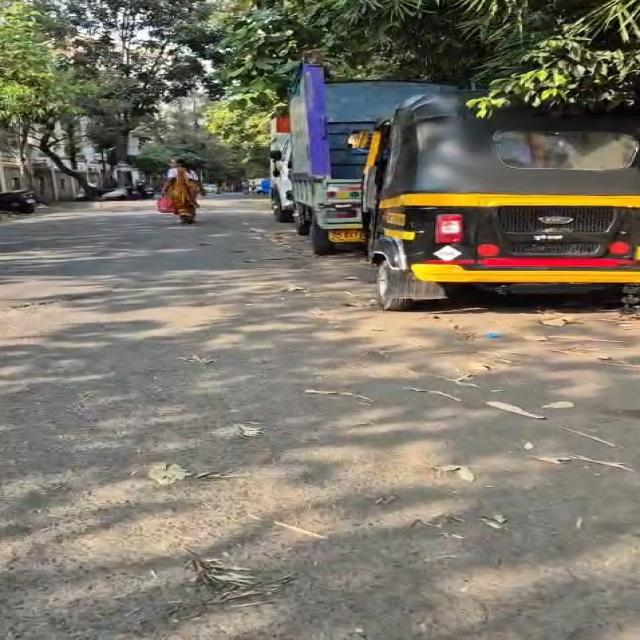obstacle: (290, 63, 444, 255), (38, 135, 99, 199), (270, 116, 293, 222)
vehical: (363, 92, 639, 310), (0, 190, 38, 213)
